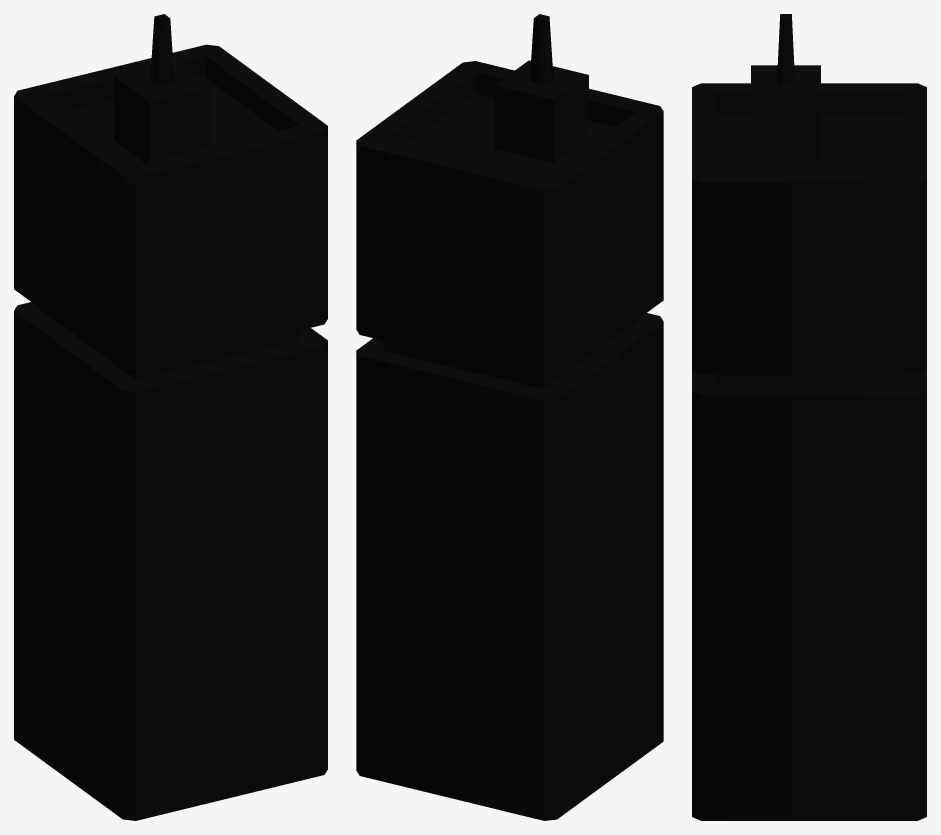
The model's file is low-detail-building-d.glb.
3 renders of one model, left to right at view 1: azimuth 30°, elevation 25°; view 2: azimuth 150°, elevation 25°; view 3: azimuth 270°, elevation 25°, orthographic. The views are drawn at different scales.
Visible parts, largest first — view 1: low-detail-building-d; view 2: low-detail-building-d; view 3: low-detail-building-d.
Boxes of the visible parts, <box> form: low-detail-building-d: <box>14,14,327,820</box>; low-detail-building-d: <box>356,14,663,820</box>; low-detail-building-d: <box>692,14,926,820</box>.
Size of the model in its own units: 0.5002 by 1.75 by 0.5002.
Materials: 1 (1 with a texture image).
